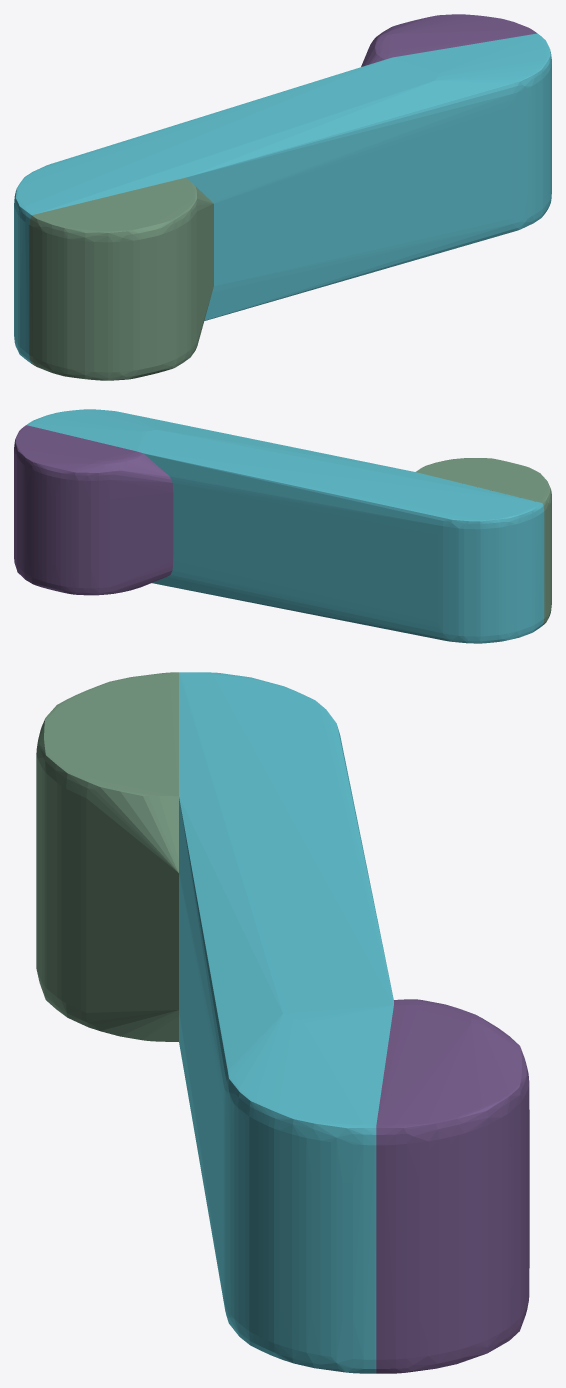
Rendered from torso_l2.obj.
3 views of the same model, one above another, from view 1: azimuth 30°, elevation 25°; view 2: azimuth 150°, elevation 25°; view 3: azimuth 270°, elevation 25° (orthographic). The views are drawn at different scales.
Parts seen in each view (by area): view 1: geometry_2, geometry_0, geometry_1; view 2: geometry_2, geometry_1, geometry_0; view 3: geometry_2, geometry_1, geometry_0.
Part boxes in pixels (box(x1,y1,x2,y2)): geometry_2: box(14, 33, 551, 363); geometry_0: box(29, 177, 213, 380); geometry_1: box(361, 14, 536, 66); geometry_2: box(26, 409, 544, 643); geometry_1: box(14, 425, 173, 595); geometry_0: box(416, 458, 551, 624); geometry_2: box(179, 672, 393, 1373); geometry_1: box(376, 999, 529, 1373); geometry_0: box(36, 672, 178, 1041).
Bounding box in the file's own units: 0.567 × 0.1482 × 0.257.
